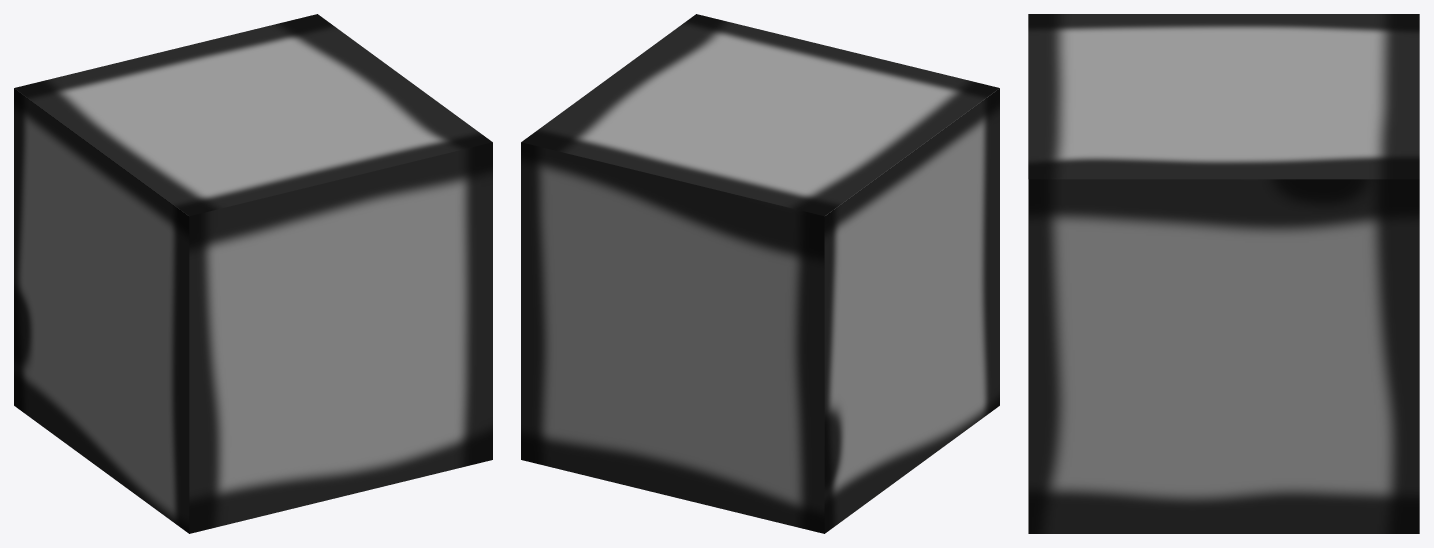
Rendered from test_room.obj.
3 views of the same model, side by side, from view 1: azimuth 30°, elevation 25°; view 2: azimuth 150°, elevation 25°; view 3: azimuth 270°, elevation 25° (orthographic). The views are drawn at different scales.
Parts seen in each view (by area): view 1: room_walls; view 2: room_walls; view 3: room_walls.
Part boxes in pixels (<box>): room_walls: <box>14,14,492,533</box>; room_walls: <box>521,14,999,533</box>; room_walls: <box>1028,14,1419,533</box>.
Size of the model in its own units: 20 by 20 by 20.
3 materials, 3 textured.
